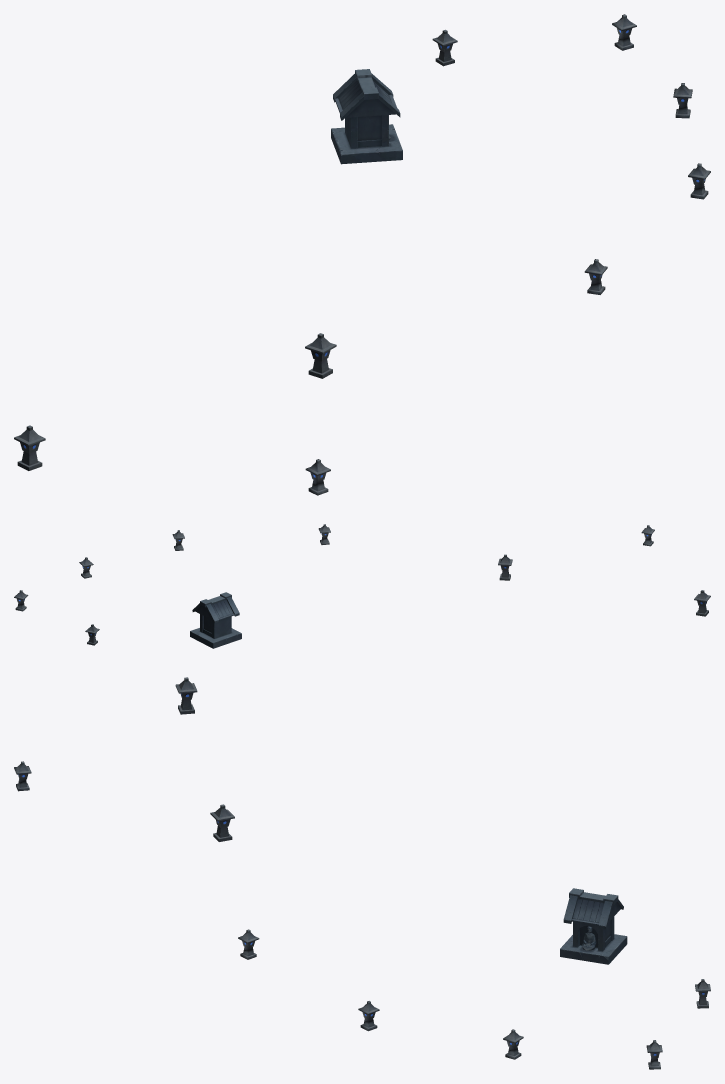
The model's file is xiaowujian14.fbx.
3 views of the same model, one above another, from view 1: azimuth 30°, elevation 25°; view 2: azimuth 150°, elevation 25°; view 3: azimuth 270°, elevation 25° (orthographic). The views are drawn at different scales.
Visible parts, largest first — view 1: xiaowujian14; view 2: xiaowujian14; view 3: xiaowujian14.
Part boxes in pixels (x1,y1,x2,y2): xiaowujian14: [14, 14, 710, 495]; xiaowujian14: [14, 524, 710, 648]; xiaowujian14: [14, 677, 710, 1069].
Size of the model in its own units: 7613 by 548 by 6161.
